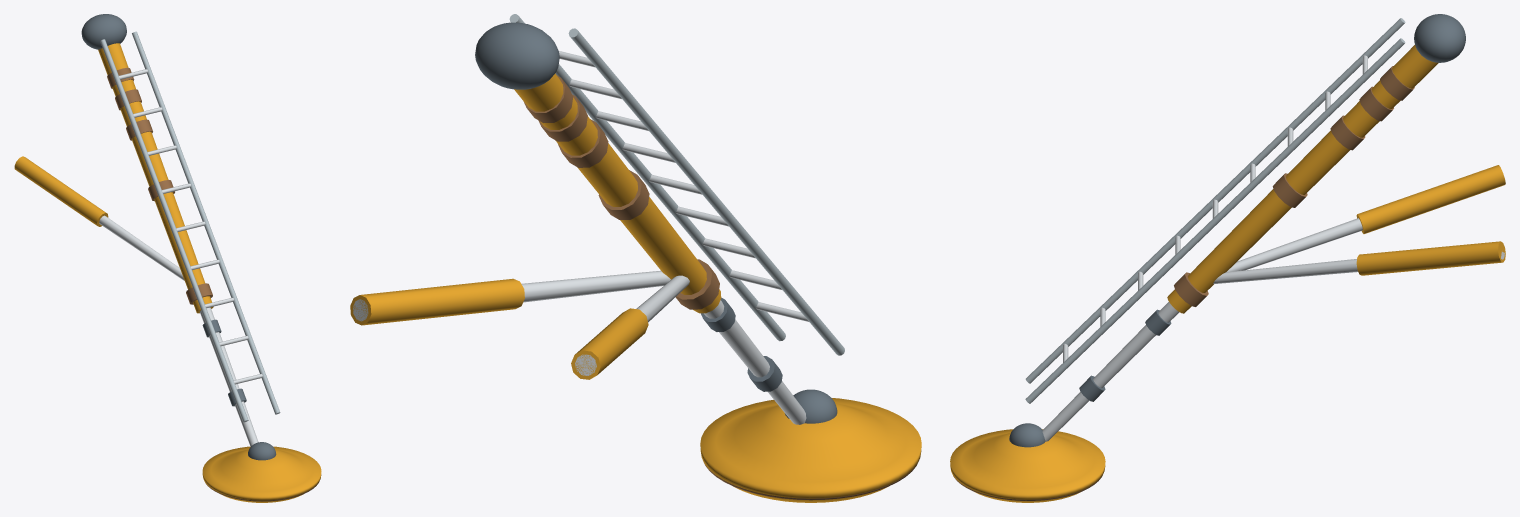
The model's file is eagle_descent.gear_front.glb.
The picture shows the model from 3 angles, left to right: view 1: azimuth 30°, elevation 25°; view 2: azimuth 150°, elevation 25°; view 3: azimuth 270°, elevation 25°; orthographic projection. The views are drawn at different scales.
Parts seen in each view (by area): view 1: eagle_descent.gear_front.main_strut.ladder.mesh, eagle_descent.gear_front.main_strut.mesh, eagle_descent.gear_front.main_strut.footpad.mesh, eagle_descent.gear_front.brace_left.mesh, eagle_descent.gear_front.mesh; view 2: eagle_descent.gear_front.main_strut.footpad.mesh, eagle_descent.gear_front.main_strut.mesh, eagle_descent.gear_front.main_strut.ladder.mesh, eagle_descent.gear_front.brace_right.mesh, eagle_descent.gear_front.mesh, eagle_descent.gear_front.brace_left.mesh; view 3: eagle_descent.gear_front.main_strut.mesh, eagle_descent.gear_front.main_strut.footpad.mesh, eagle_descent.gear_front.main_strut.ladder.mesh, eagle_descent.gear_front.brace_right.mesh, eagle_descent.gear_front.brace_left.mesh, eagle_descent.gear_front.mesh.
Boxes of the visible parts, box(x1,y1,x2,y2) form: eagle_descent.gear_front.main_strut.ladder.mesh: box(100, 31, 280, 422); eagle_descent.gear_front.main_strut.mesh: box(98, 43, 258, 446); eagle_descent.gear_front.main_strut.footpad.mesh: box(202, 442, 321, 502); eagle_descent.gear_front.brace_left.mesh: box(14, 156, 184, 280); eagle_descent.gear_front.mesh: box(81, 14, 126, 49); eagle_descent.gear_front.main_strut.footpad.mesh: box(700, 389, 921, 502); eagle_descent.gear_front.main_strut.mesh: box(514, 73, 806, 424); eagle_descent.gear_front.main_strut.ladder.mesh: box(509, 14, 844, 355); eagle_descent.gear_front.brace_right.mesh: box(350, 270, 670, 325); eagle_descent.gear_front.mesh: box(475, 22, 559, 89); eagle_descent.gear_front.brace_left.mesh: box(571, 275, 689, 379); eagle_descent.gear_front.main_strut.mesh: box(1042, 45, 1438, 441); eagle_descent.gear_front.main_strut.footpad.mesh: box(950, 423, 1105, 502); eagle_descent.gear_front.main_strut.ladder.mesh: box(1025, 18, 1405, 403); eagle_descent.gear_front.brace_right.mesh: box(1213, 241, 1505, 283); eagle_descent.gear_front.brace_left.mesh: box(1226, 165, 1505, 272); eagle_descent.gear_front.mesh: box(1414, 14, 1465, 62).
Size of the model in its own units: 1.25 by 3.12 by 3.41.
